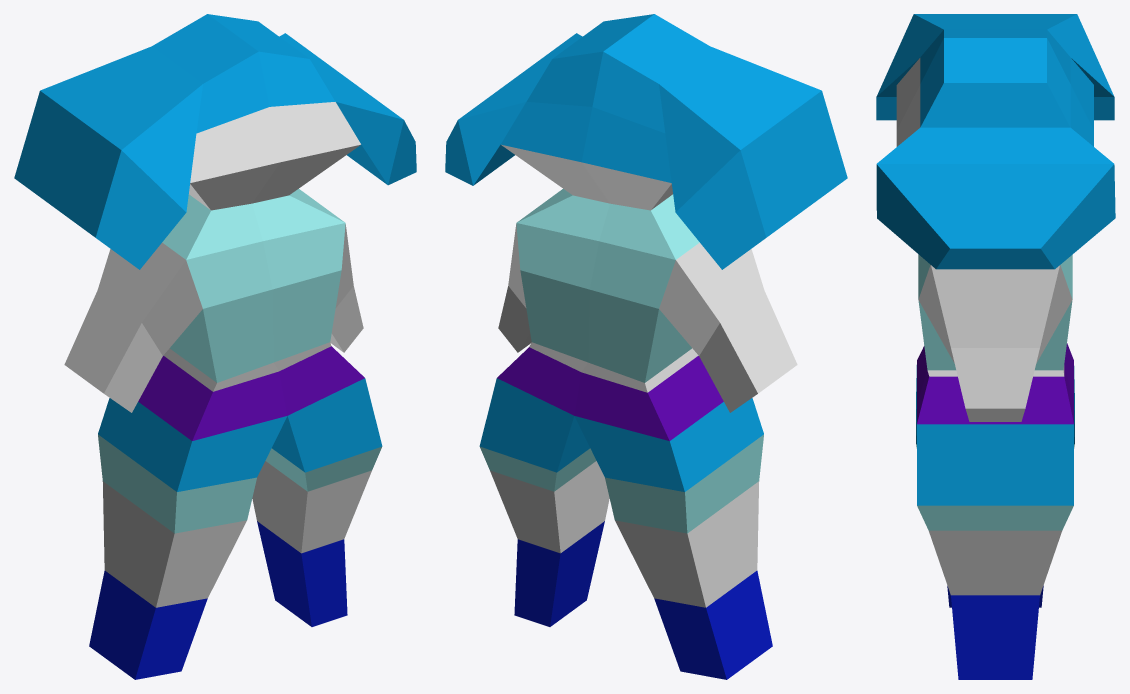
File: Playerchar01_3d.glb
3 renders of one model, left to right at view 1: azimuth 30°, elevation 25°; view 2: azimuth 150°, elevation 25°; view 3: azimuth 270°, elevation 25°, orthographic.
Parts seen in each view (by area): view 1: Cube; view 2: Cube; view 3: Cube.
Part boxes in pixels (box(x1,y1,x2,y2)): Cube: box(14, 14, 416, 679); Cube: box(445, 14, 847, 679); Cube: box(876, 14, 1115, 679).
Size of the model in its own units: 2.63 by 4.49 by 1.6.
